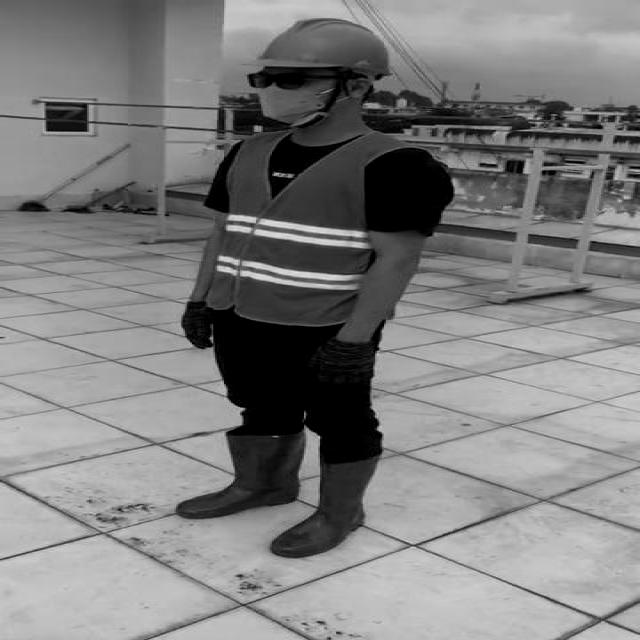boots: (176, 428, 306, 519), (270, 454, 375, 558)
face_mask: (248, 66, 333, 125)
glasses: (240, 65, 316, 94)
hand_glove: (302, 338, 380, 384), (181, 297, 210, 354)
head_helmet: (242, 15, 393, 79)
person: (130, 18, 467, 560)
vest: (206, 127, 444, 323)
